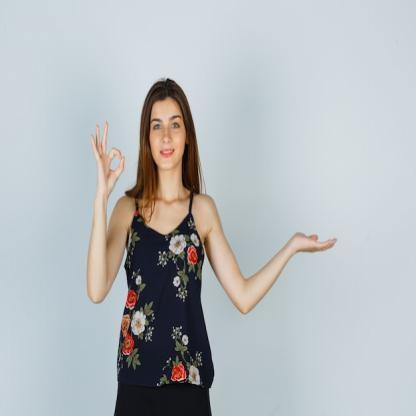ok: (91, 118, 126, 194)
